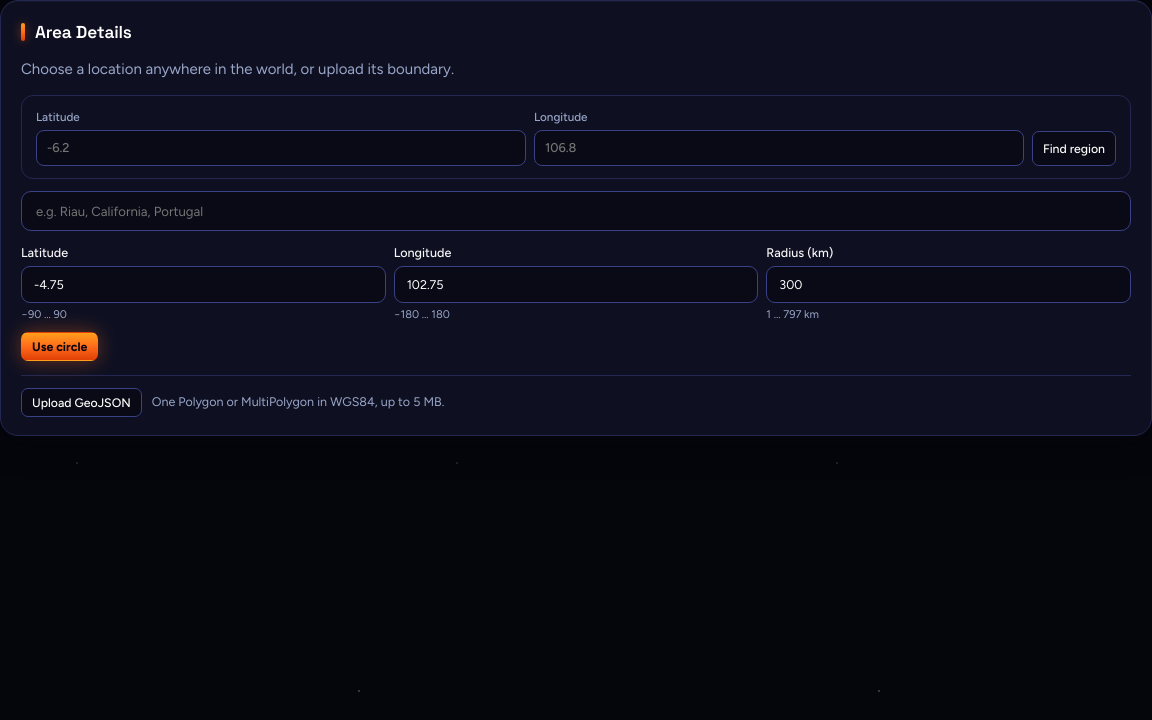
AoiPanel › shows Indonesian regions after choosing Indonesia and returns worldwide on clear
The width and height of the screenshot is (1152, 720).
Later steps or results of the test are not shown.
Type "Indonesia" into the search field. click: (576, 211)
box: [21, 191, 1131, 231]
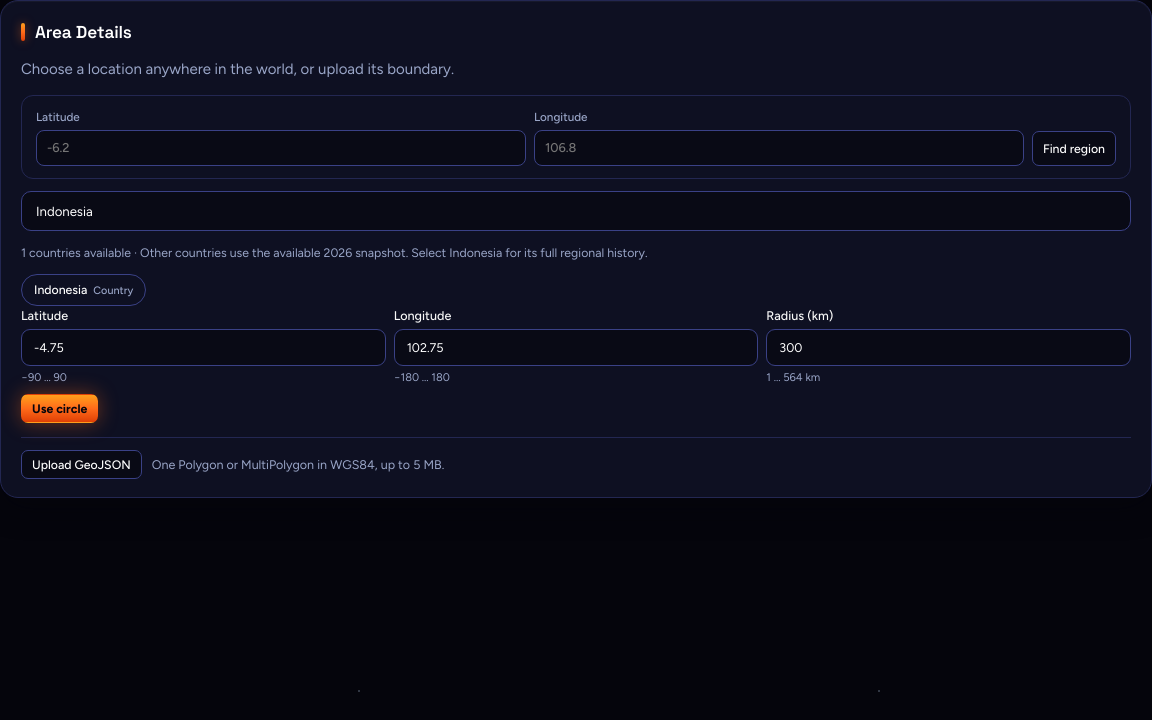
Click the button named "IndonesiaCountry". click: (84, 290)
box: [21, 274, 146, 306]
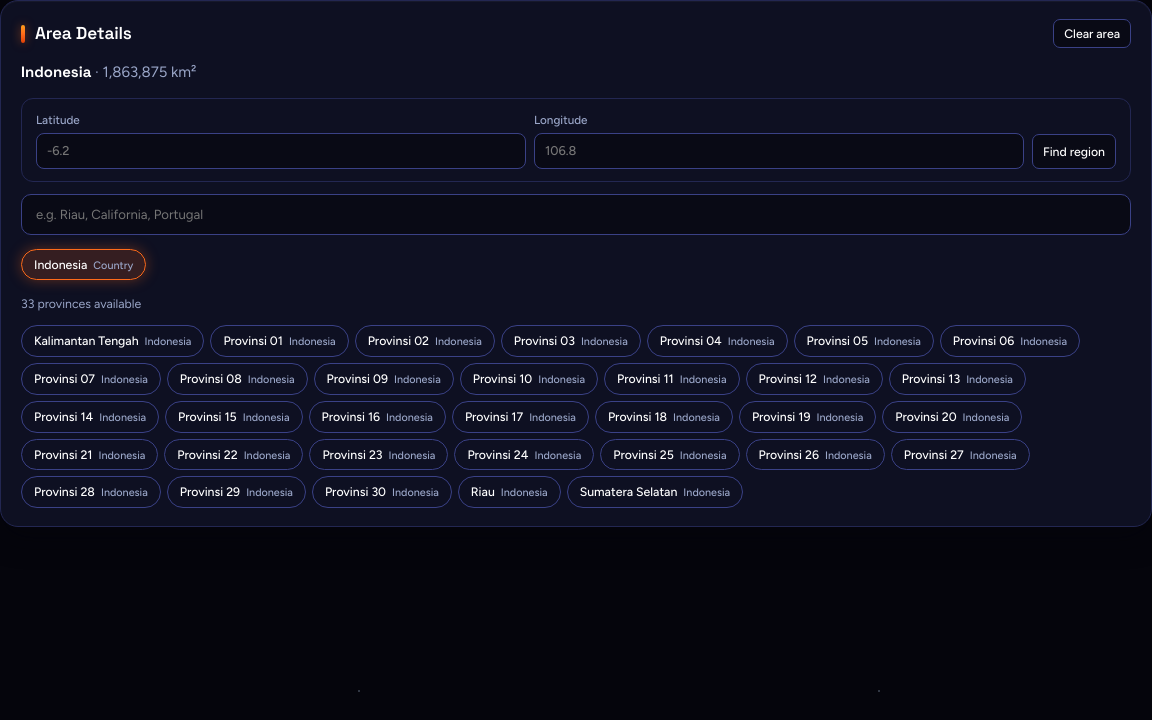
Expected: the text "33 provinces available" is shown, [21, 296, 141, 311]
Expected: the button "Riau Indonesia" is shown, [458, 476, 561, 508]
